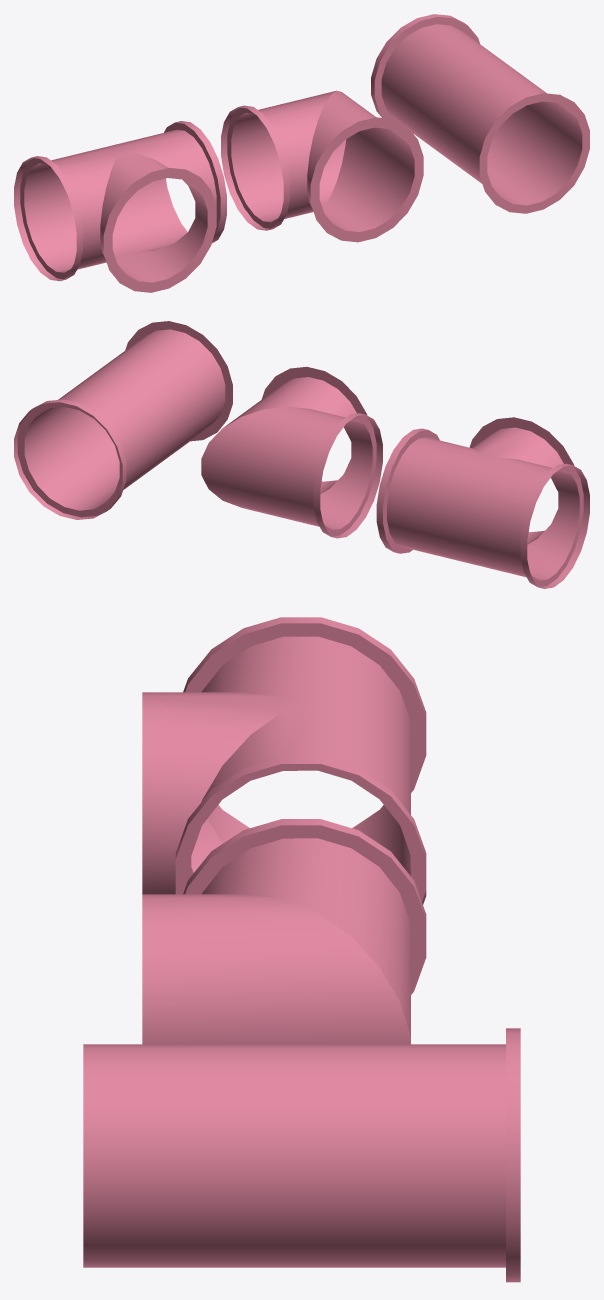
Rendered from TLR Rioolpipes.fbx.
3 views of the same model, one above another, from view 1: azimuth 30°, elevation 25°; view 2: azimuth 150°, elevation 25°; view 3: azimuth 270°, elevation 25° (orthographic). The views are drawn at different scales.
Visible parts, largest first — view 1: PIpeTSplit, PipeRecht, PIpeHoek; view 2: PIpeTSplit, PipeRecht, PIpeHoek; view 3: PipeRecht, PIpeHoek, PIpeTSplit.
Part boxes in pixels (box(x1,y1,x2,y2)): PIpeTSplit: box(14, 121, 226, 292); PipeRecht: box(371, 14, 589, 213); PIpeHoek: box(221, 90, 423, 242); PIpeTSplit: box(376, 417, 589, 588); PipeRecht: box(14, 321, 232, 519); PIpeHoek: box(201, 366, 382, 538); PipeRecht: box(83, 1028, 520, 1282); PIpeHoek: box(142, 819, 426, 1044); PIpeTSplit: box(142, 617, 426, 904).
Bounding box in the file's own units: 556 × 131 × 215.
